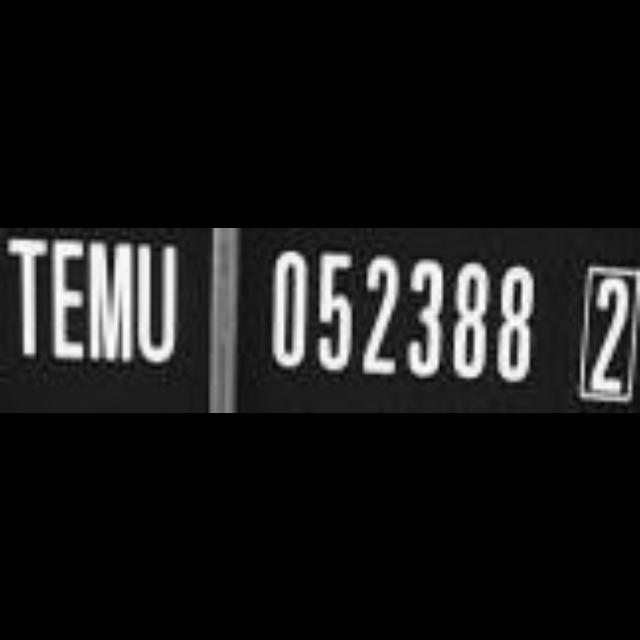0: (265, 247, 309, 366)
2: (586, 274, 630, 398), (359, 250, 401, 378)
3: (406, 252, 446, 382)
5: (315, 246, 351, 374)
8: (494, 258, 534, 386), (451, 255, 491, 382)
e: (51, 235, 89, 361)
m: (84, 238, 136, 366)
t: (0, 228, 48, 360)
u: (138, 234, 182, 374)
